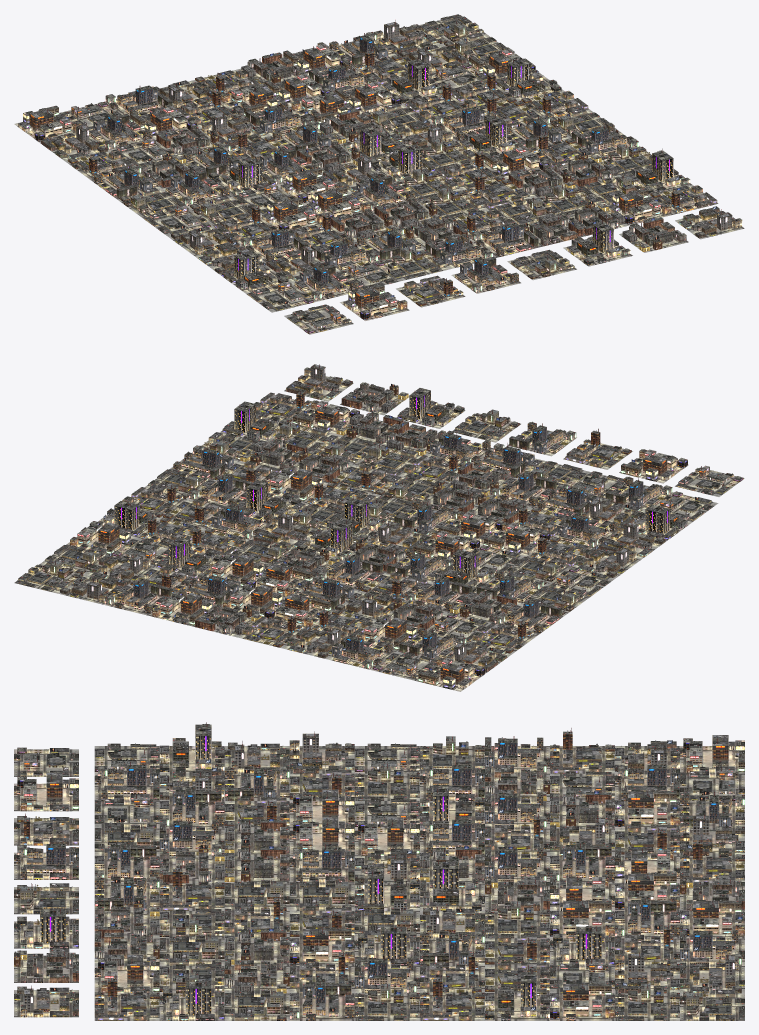
3 renders of one model, top to bottom at view 1: azimuth 30°, elevation 25°; view 2: azimuth 150°, elevation 25°; view 3: azimuth 270°, elevation 25°, orthographic. The views are drawn at different scales.
Parts seen in each view (by area): view 1: big, Block_base_6_2, Block_base_4_2, Block_base_2_2, Block_base_7_2, Block_base_8_2, Block_base_3_2, Block_base_5_2, Block_base_1_2; view 2: big, Block_base_6_2, Block_base_2_2, Block_base_7_2, Block_base_4_2, Block_base_8_2, Block_base_3_2, Block_base_5_2, Block_base_1_2; view 3: big, Block_base_2_2, Block_base_6_2, Block_base_4_2, Block_base_7_2, Block_base_8_2, Block_base_3_2, Block_base_5_2, Block_base_1_2.
Part boxes in pixels (x1=…): big: x1=14, y1=14, x2=718, y2=312; Block_base_6_2: x1=563, y1=220, x2=632, y2=266; Block_base_4_2: x1=451, y1=256, x2=520, y2=293; Block_base_2_2: x1=340, y1=284, x2=409, y2=320; Block_base_7_2: x1=619, y1=217, x2=688, y2=252; Block_base_8_2: x1=675, y1=206, x2=744, y2=239; Block_base_3_2: x1=396, y1=275, x2=465, y2=307; Block_base_5_2: x1=507, y1=249, x2=576, y2=280; Block_base_1_2: x1=284, y1=304, x2=353, y2=334; big: x1=14, y1=390, x2=718, y2=691; Block_base_6_2: x1=396, y1=388, x2=465, y2=428; Block_base_2_2: x1=619, y1=449, x2=688, y2=483; Block_base_7_2: x1=340, y1=382, x2=409, y2=415; Block_base_4_2: x1=507, y1=421, x2=576, y2=456; Block_base_8_2: x1=284, y1=364, x2=353, y2=401; Block_base_3_2: x1=563, y1=428, x2=632, y2=469; Block_base_5_2: x1=452, y1=409, x2=520, y2=442; Block_base_1_2: x1=675, y1=465, x2=744, y2=496; big: x1=94, y1=722, x2=744, y2=1020; Block_base_2_2: x1=14, y1=772, x2=78, y2=811; Block_base_6_2: x1=14, y1=908, x2=78, y2=948; Block_base_4_2: x1=14, y1=841, x2=78, y2=879; Block_base_7_2: x1=14, y1=948, x2=78, y2=982; Block_base_8_2: x1=14, y1=985, x2=78, y2=1017; Block_base_3_2: x1=14, y1=813, x2=78, y2=845; Block_base_5_2: x1=14, y1=883, x2=78, y2=914; Block_base_1_2: x1=14, y1=747, x2=78, y2=776.
Bounding box in the file's own units: 2000 × 115 × 2248.
Materials: 1 (1 with a texture image).
